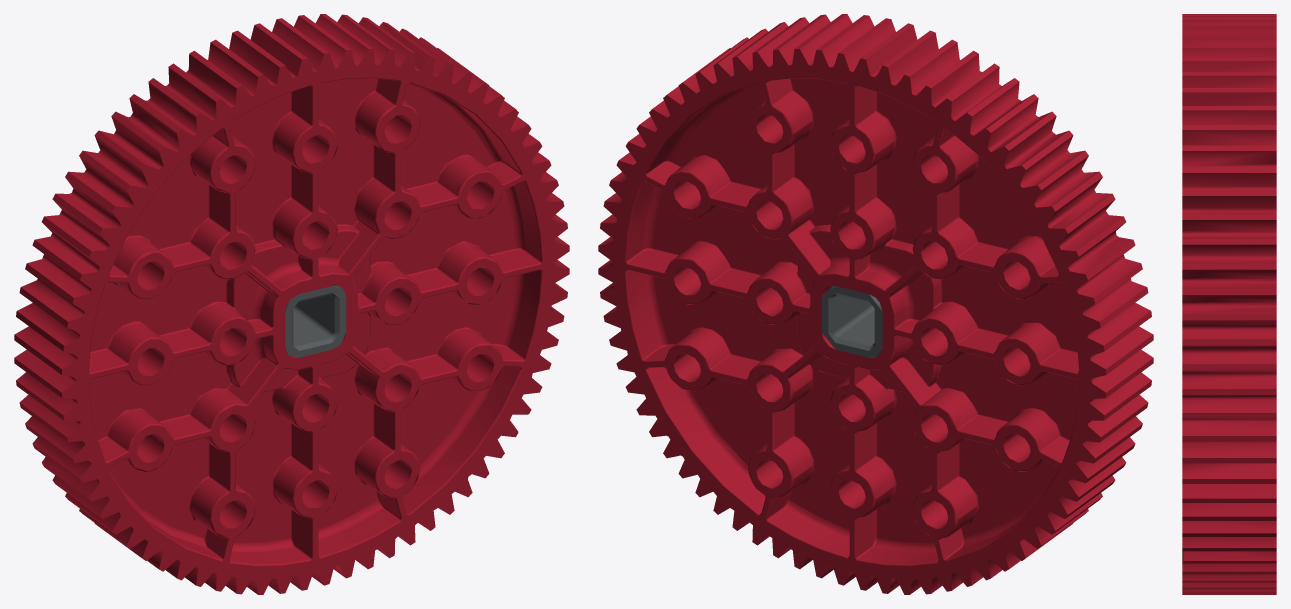
The picture shows the model from 3 angles, left to right: view 1: azimuth 30°, elevation 25°; view 2: azimuth 150°, elevation 25°; view 3: azimuth 270°, elevation 25°; orthographic projection.
Parts seen in each view (by area): view 1: 276-7574-001_OVERMOLD Rev4_72T 24DP Gear, 276-7573-002 Rev7; view 2: 276-7574-001_OVERMOLD Rev4_72T 24DP Gear, 276-7573-002 Rev7; view 3: 276-7574-001_OVERMOLD Rev4_72T 24DP Gear.
Part boxes in pixels (box(x1,y1,x2,y2)): 276-7574-001_OVERMOLD Rev4_72T 24DP Gear: box(14, 14, 569, 594); 276-7573-002 Rev7: box(285, 286, 346, 357); 276-7574-001_OVERMOLD Rev4_72T 24DP Gear: box(598, 14, 1153, 594); 276-7573-002 Rev7: box(821, 286, 882, 357); 276-7574-001_OVERMOLD Rev4_72T 24DP Gear: box(1182, 14, 1276, 594).
Size of the model in its own units: 78.27 by 78.27 by 12.7.
